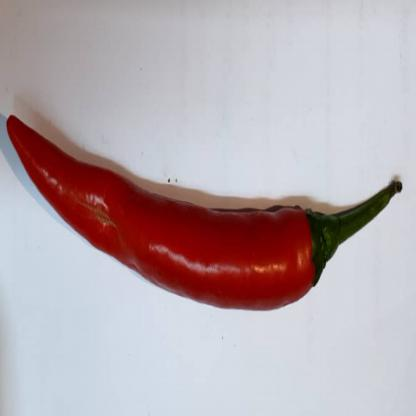chili: (4, 107, 404, 312)
